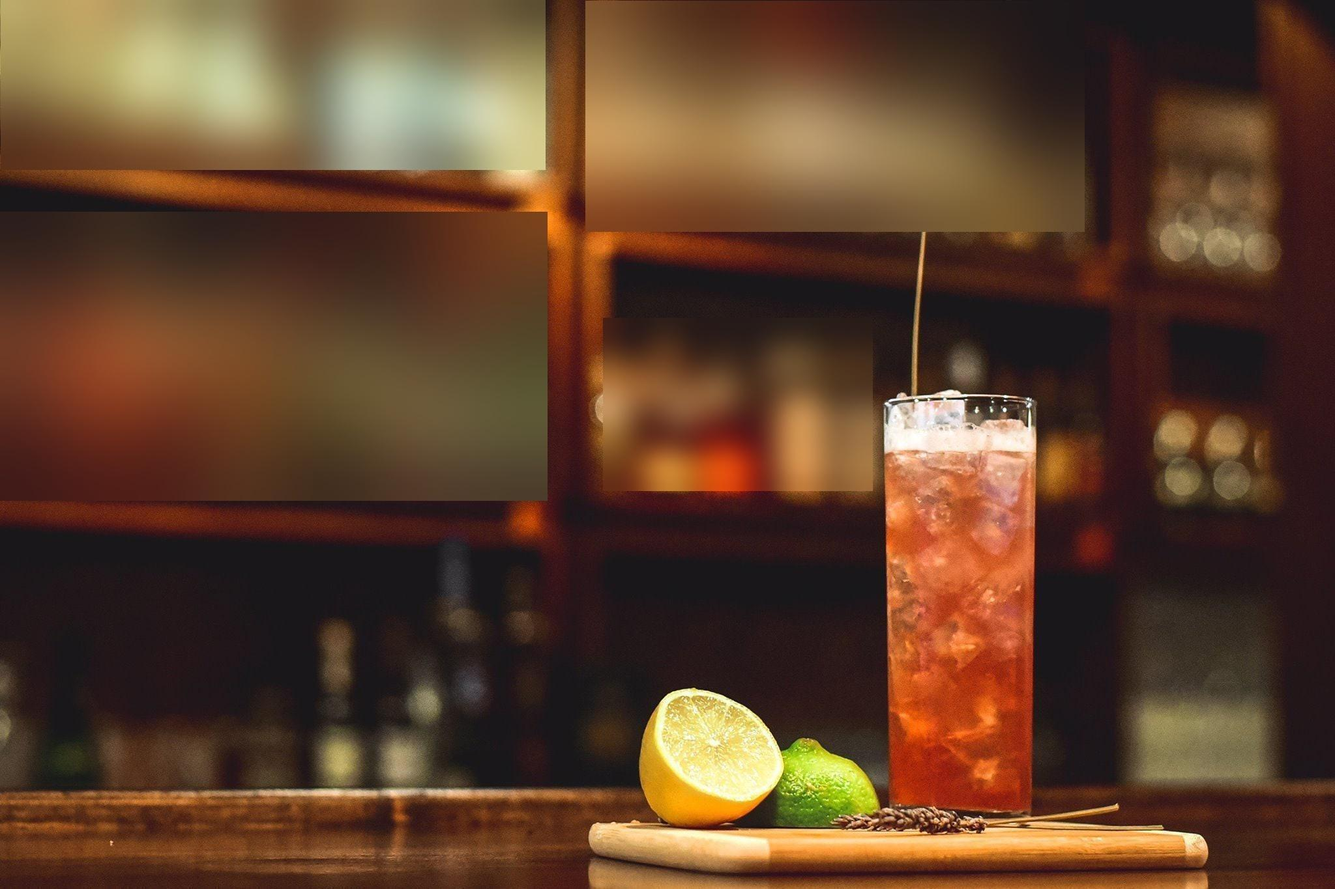glass-normal: (875, 387, 1046, 813)
